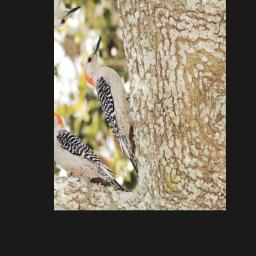Woodpecker: (62, 29, 174, 186)
